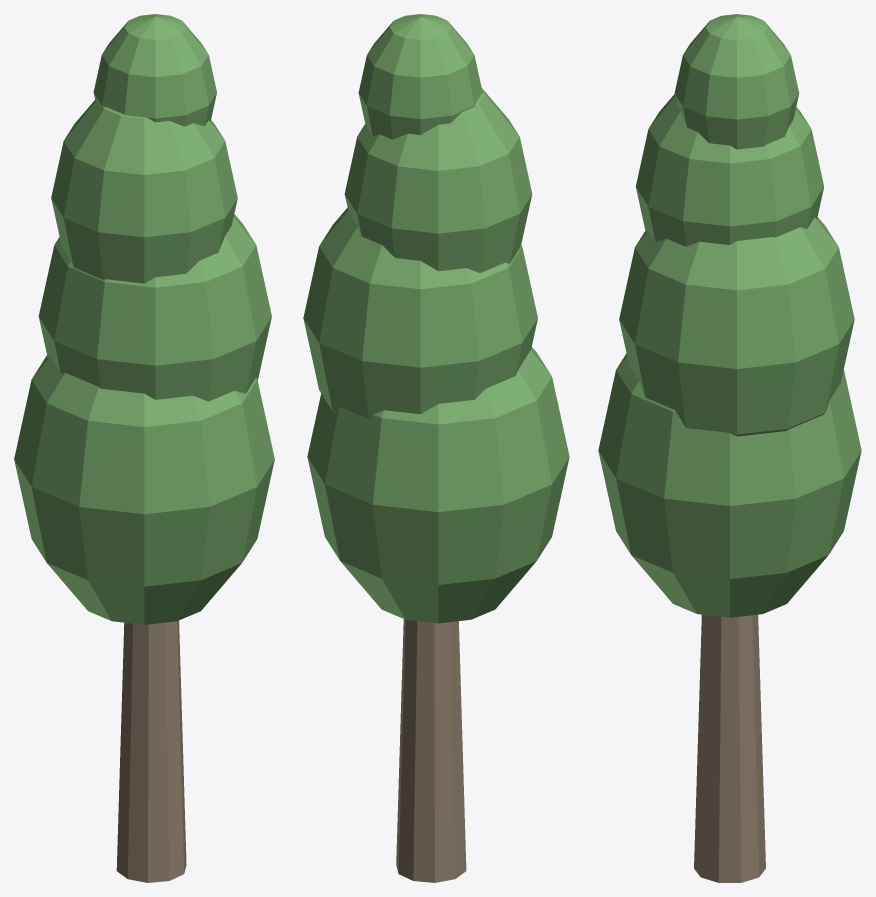
File: th5_baum_pappel.glb
3 views of the same model, side by side, from view 1: azimuth 30°, elevation 25°; view 2: azimuth 150°, elevation 25°; view 3: azimuth 270°, elevation 25° (orthographic).
Parts seen in each view (by area): view 1: Sphere, Sphere.001, Sphere.002, Cone, Sphere.003; view 2: Sphere, Sphere.001, Sphere.002, Cone, Sphere.003; view 3: Sphere, Sphere.001, Sphere.002, Cone, Sphere.003.
Boxes of the visible parts, box(x1,y1,x2,y2) form: Sphere: box(14, 355, 274, 624); Sphere.001: box(38, 214, 271, 401); Sphere.002: box(51, 99, 237, 283); Cone: box(116, 620, 186, 882); Sphere.003: box(93, 14, 216, 126); Sphere: box(307, 347, 569, 623); Sphere.001: box(303, 208, 537, 418); Sphere.002: box(344, 88, 532, 272); Cone: box(396, 619, 466, 882); Sphere.003: box(358, 14, 482, 139); Sphere: box(598, 353, 861, 617); Sphere.001: box(619, 217, 854, 436); Sphere.002: box(635, 94, 824, 246); Cone: box(694, 614, 765, 882); Sphere.003: box(674, 14, 799, 149).
Size of the model in its own units: 1.92 by 6.81 by 1.9.
